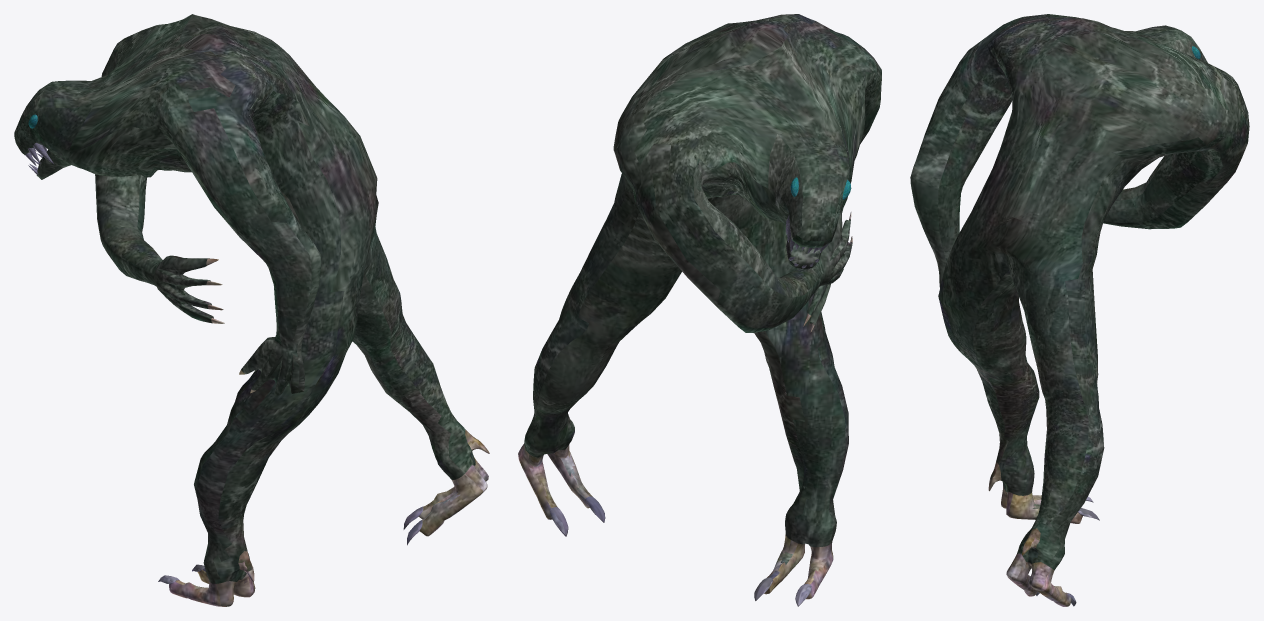
The model's file is Aranar.0009.obj.
The picture shows the model from 3 angles, left to right: view 1: azimuth 30°, elevation 25°; view 2: azimuth 150°, elevation 25°; view 3: azimuth 270°, elevation 25°; orthographic projection. The views are drawn at different scales.
Visible parts, largest first — view 1: polySurface28; view 2: polySurface28; view 3: polySurface28.
Part boxes in pixels (x1,y1,x2,y2): polySurface28: [14, 14, 489, 606]; polySurface28: [518, 14, 881, 606]; polySurface28: [910, 14, 1249, 606].
Bounding box in the file's own units: 1.52 × 2.04 × 1.24.
4 materials, 4 textured.
